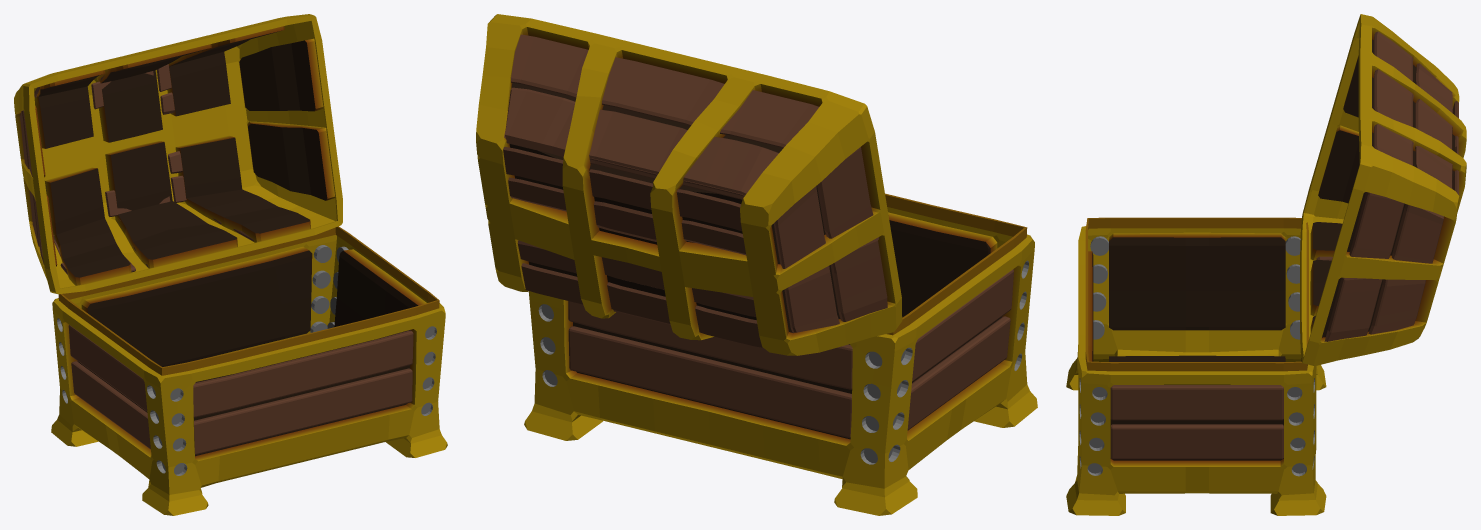
File: Schatztruhe_Offen.fbx
The picture shows the model from 3 angles, left to right: view 1: azimuth 30°, elevation 25°; view 2: azimuth 150°, elevation 25°; view 3: azimuth 270°, elevation 25°; orthographic projection. The views are drawn at different scales.
Visible parts, largest first — view 1: Schatztruhe_001.005; view 2: Schatztruhe_001.005; view 3: Schatztruhe_001.005.
Part boxes in pixels (x1=…): Schatztruhe_001.005: x1=14, y1=14, x2=447, y2=515; Schatztruhe_001.005: x1=476, y1=14, x2=1037, y2=515; Schatztruhe_001.005: x1=1066, y1=14, x2=1466, y2=515.
Size of the model in its own units: 476 by 521 by 529.
